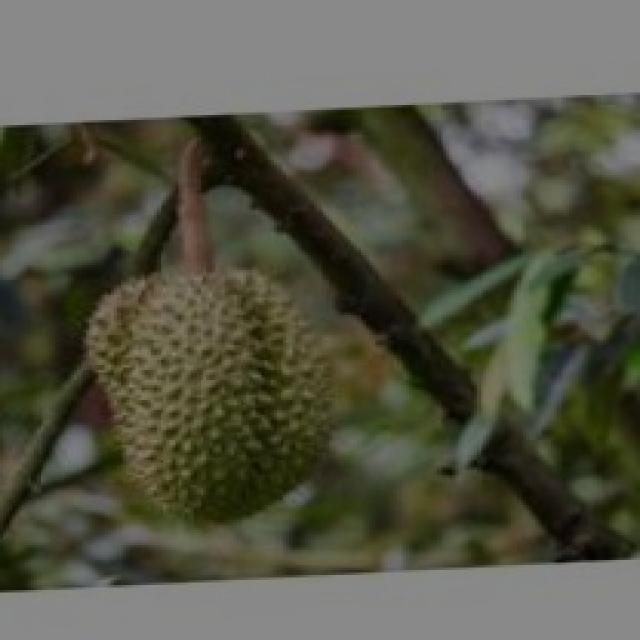fruit: (52, 215, 382, 550)
